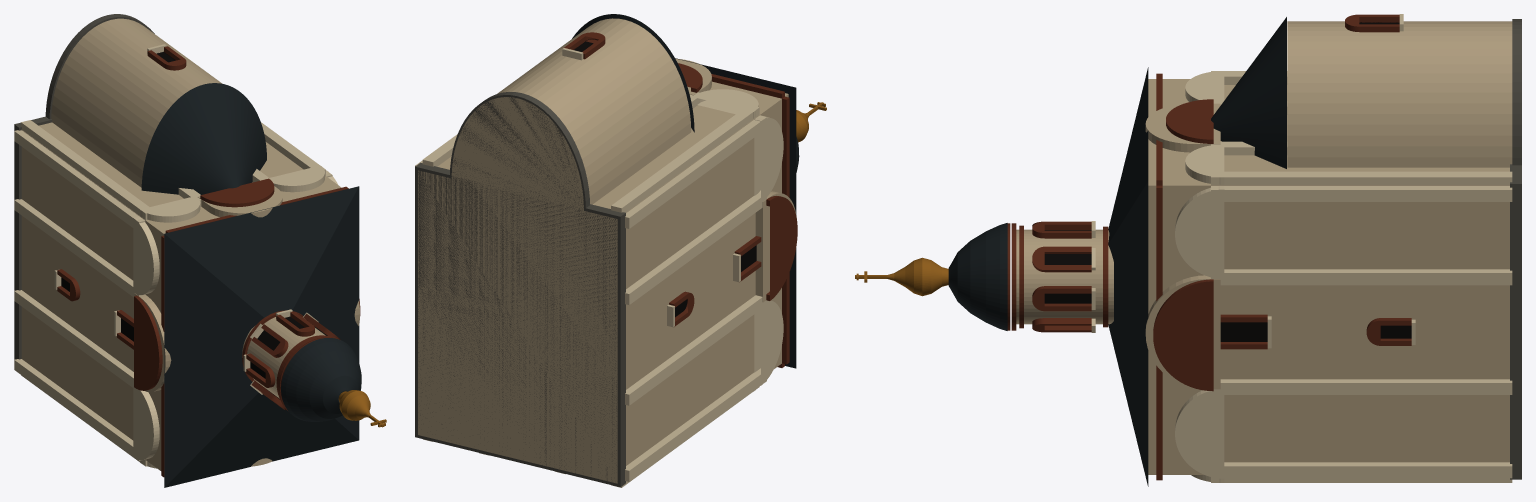
Rendered from Lazarus_1461.obj.
3 renders of one model, left to right at view 1: azimuth 30°, elevation 25°; view 2: azimuth 150°, elevation 25°; view 3: azimuth 270°, elevation 25°, orthographic. The views are drawn at different scales.
Parts seen in each view (by area): view 1: Four_slope_roof_78, Main_rectangular_volume_0, Eastern_apse_2, Apse_half-conical_roof_79, Bell_shaped_cupola_125, South_central_facade_arch_36, East_pilaster_72, South_pilaster_31, South_pilaster_32, South_pilaster_34, South_pilaster_33, Foundation_plinth_1 (+13 smaller); view 2: Main_rectangular_volume_0, Eastern_apse_2, Foundation_plinth_1, Apse_foundation_3, South_pilaster_31, East_pilaster_72, South_pilaster_32, South_pilaster_33, South_pilaster_34, Four_slope_roof_78, South_central_facade_arch_36, South_side_facade_arch_37 (+8 smaller); view 3: Main_rectangular_volume_0, Eastern_apse_2, Four_slope_roof_78, Apse_half-conical_roof_79, North_central_facade_arch_55, North_pilaster_50, North_pilaster_52, North_pilaster_53, North_pilaster_51, Bell_shaped_cupola_125, East_pilaster_69, Cylindrical_drum_80 (+13 smaller).
Part boxes in pixels (bbox=[...]): Four_slope_roof_78: bbox=[164, 186, 359, 487]; Main_rectangular_volume_0: bbox=[21, 122, 341, 470]; Eastern_apse_2: bbox=[51, 18, 221, 187]; Apse_half-conical_roof_79: bbox=[141, 83, 266, 194]; Bell_shaped_cupola_125: bbox=[281, 338, 361, 421]; South_central_facade_arch_36: bbox=[134, 295, 162, 390]; East_pilaster_72: bbox=[21, 120, 151, 220]; South_pilaster_31: bbox=[14, 130, 145, 227]; South_pilaster_32: bbox=[14, 199, 144, 297]; South_pilaster_34: bbox=[14, 359, 141, 460]; South_pilaster_33: bbox=[14, 290, 133, 387]; Foundation_plinth_1: bbox=[14, 116, 52, 359]; Main_rectangular_volume_0: bbox=[418, 81, 788, 483]; Eastern_apse_2: bbox=[451, 18, 691, 210]; Foundation_plinth_1: bbox=[415, 162, 625, 487]; Apse_foundation_3: bbox=[450, 92, 589, 210]; South_pilaster_31: bbox=[625, 115, 766, 228]; East_pilaster_72: bbox=[611, 105, 759, 212]; South_pilaster_32: bbox=[625, 193, 766, 304]; South_pilaster_33: bbox=[625, 295, 766, 405]; South_pilaster_34: bbox=[625, 368, 766, 481]; Four_slope_roof_78: bbox=[675, 58, 796, 368]; South_central_facade_arch_36: bbox=[766, 196, 797, 300]; South_side_facade_arch_37: bbox=[754, 117, 783, 202]; Main_rectangular_volume_0: bbox=[1148, 79, 1509, 474]; Eastern_apse_2: bbox=[1287, 21, 1512, 167]; Four_slope_roof_78: bbox=[1108, 67, 1148, 486]; Apse_half-conical_roof_79: bbox=[1211, 17, 1286, 168]; North_central_facade_arch_55: bbox=[1153, 279, 1213, 391]; North_pilaster_50: bbox=[1211, 462, 1512, 478]; North_pilaster_52: bbox=[1211, 269, 1512, 285]; North_pilaster_53: bbox=[1211, 186, 1512, 201]; North_pilaster_51: bbox=[1211, 379, 1512, 394]; Bell_shaped_cupola_125: bbox=[948, 223, 1007, 330]; East_pilaster_69: bbox=[1211, 171, 1512, 185]; Cylindrical_drum_80: bbox=[1016, 229, 1113, 324].
Size of the model in its own units: 7.12 by 11.63 by 16.92.
